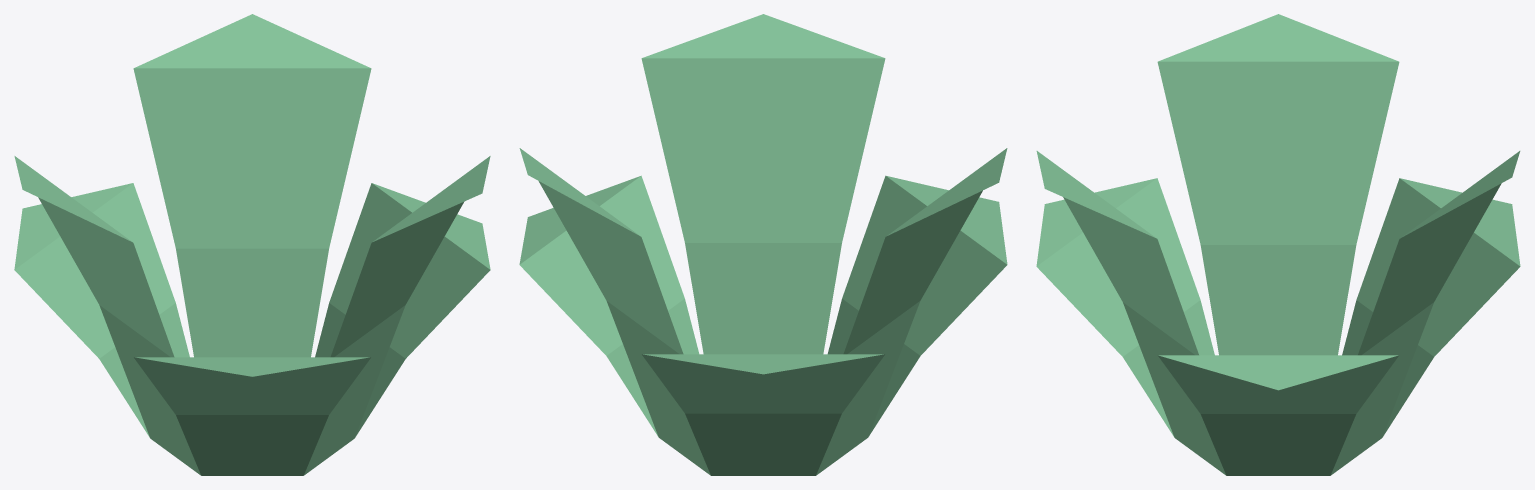
The model's file is plant.gltf.
3 renders of one model, left to right at view 1: azimuth 30°, elevation 25°; view 2: azimuth 150°, elevation 25°; view 3: azimuth 270°, elevation 25°, orthographic. The views are drawn at different scales.
Parts seen in each view (by area): view 1: plant; view 2: plant; view 3: plant.
Part boxes in pixels (bbox=[...]): plant: bbox=[14, 14, 490, 475]; plant: bbox=[519, 14, 1007, 475]; plant: bbox=[1036, 14, 1520, 475].
Size of the model in its own units: 0.6454 by 0.4188 by 0.5788.
